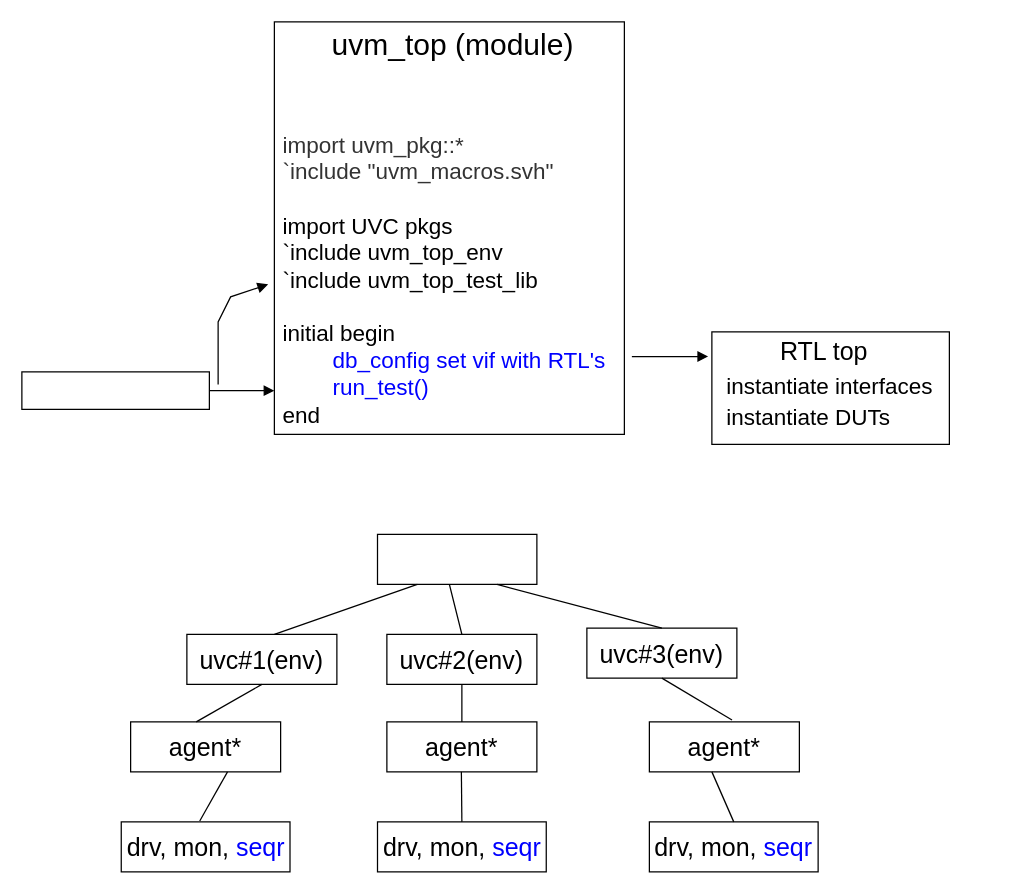
The diagram is 1009 pixels wide and 894 high, and some of its shapes have lost their labels. Each missing label, with the centre of its shape:
"uvm_test_top" belongs at [115,390].
"uvm_top_env" belongs at [456,558].
